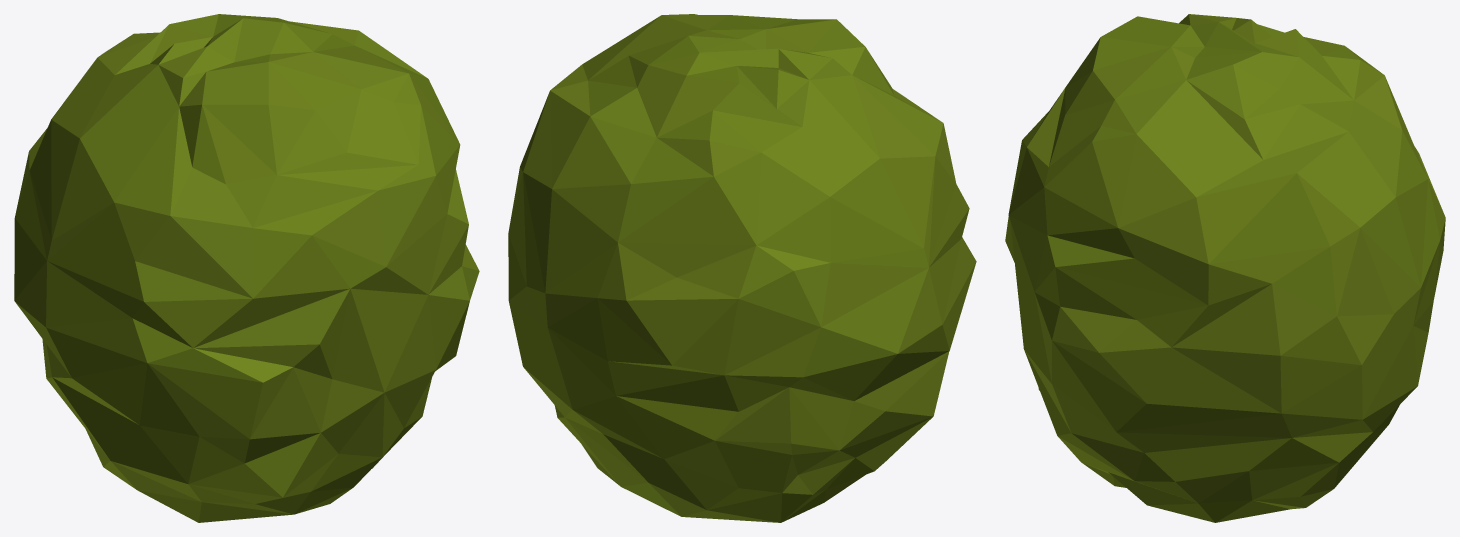
Rendered from Bush1x1_GameJamAssets.fbx.
The picture shows the model from 3 angles, left to right: view 1: azimuth 30°, elevation 25°; view 2: azimuth 150°, elevation 25°; view 3: azimuth 270°, elevation 25°; orthographic projection.
Parts seen in each view (by area): view 1: Bush; view 2: Bush; view 3: Bush.
Boxes of the visible parts, bbox=[...] form: Bush: bbox=[14, 14, 479, 522]; Bush: bbox=[508, 14, 976, 522]; Bush: bbox=[1005, 14, 1445, 522].
Size of the model in its own units: 89.35 by 94.4 by 86.57.
